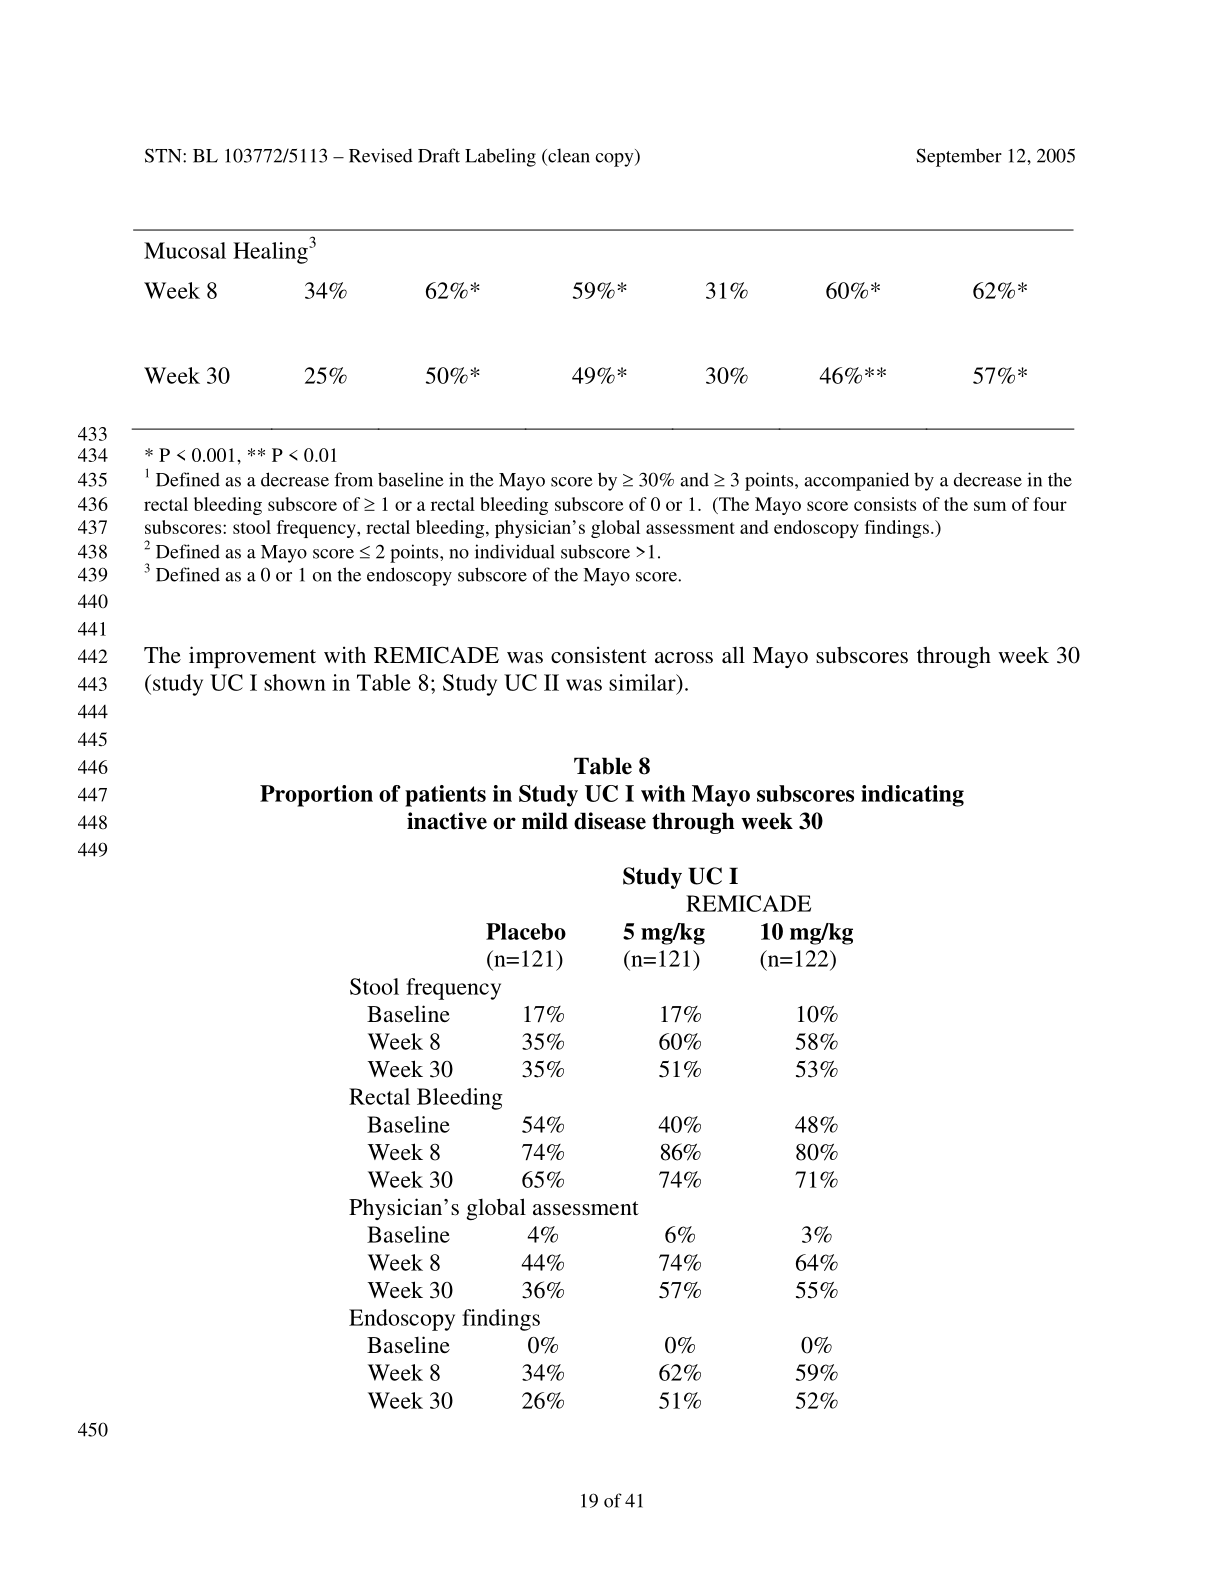nolines: (348, 915, 856, 1409)
partial_lined: (130, 229, 1074, 431)
